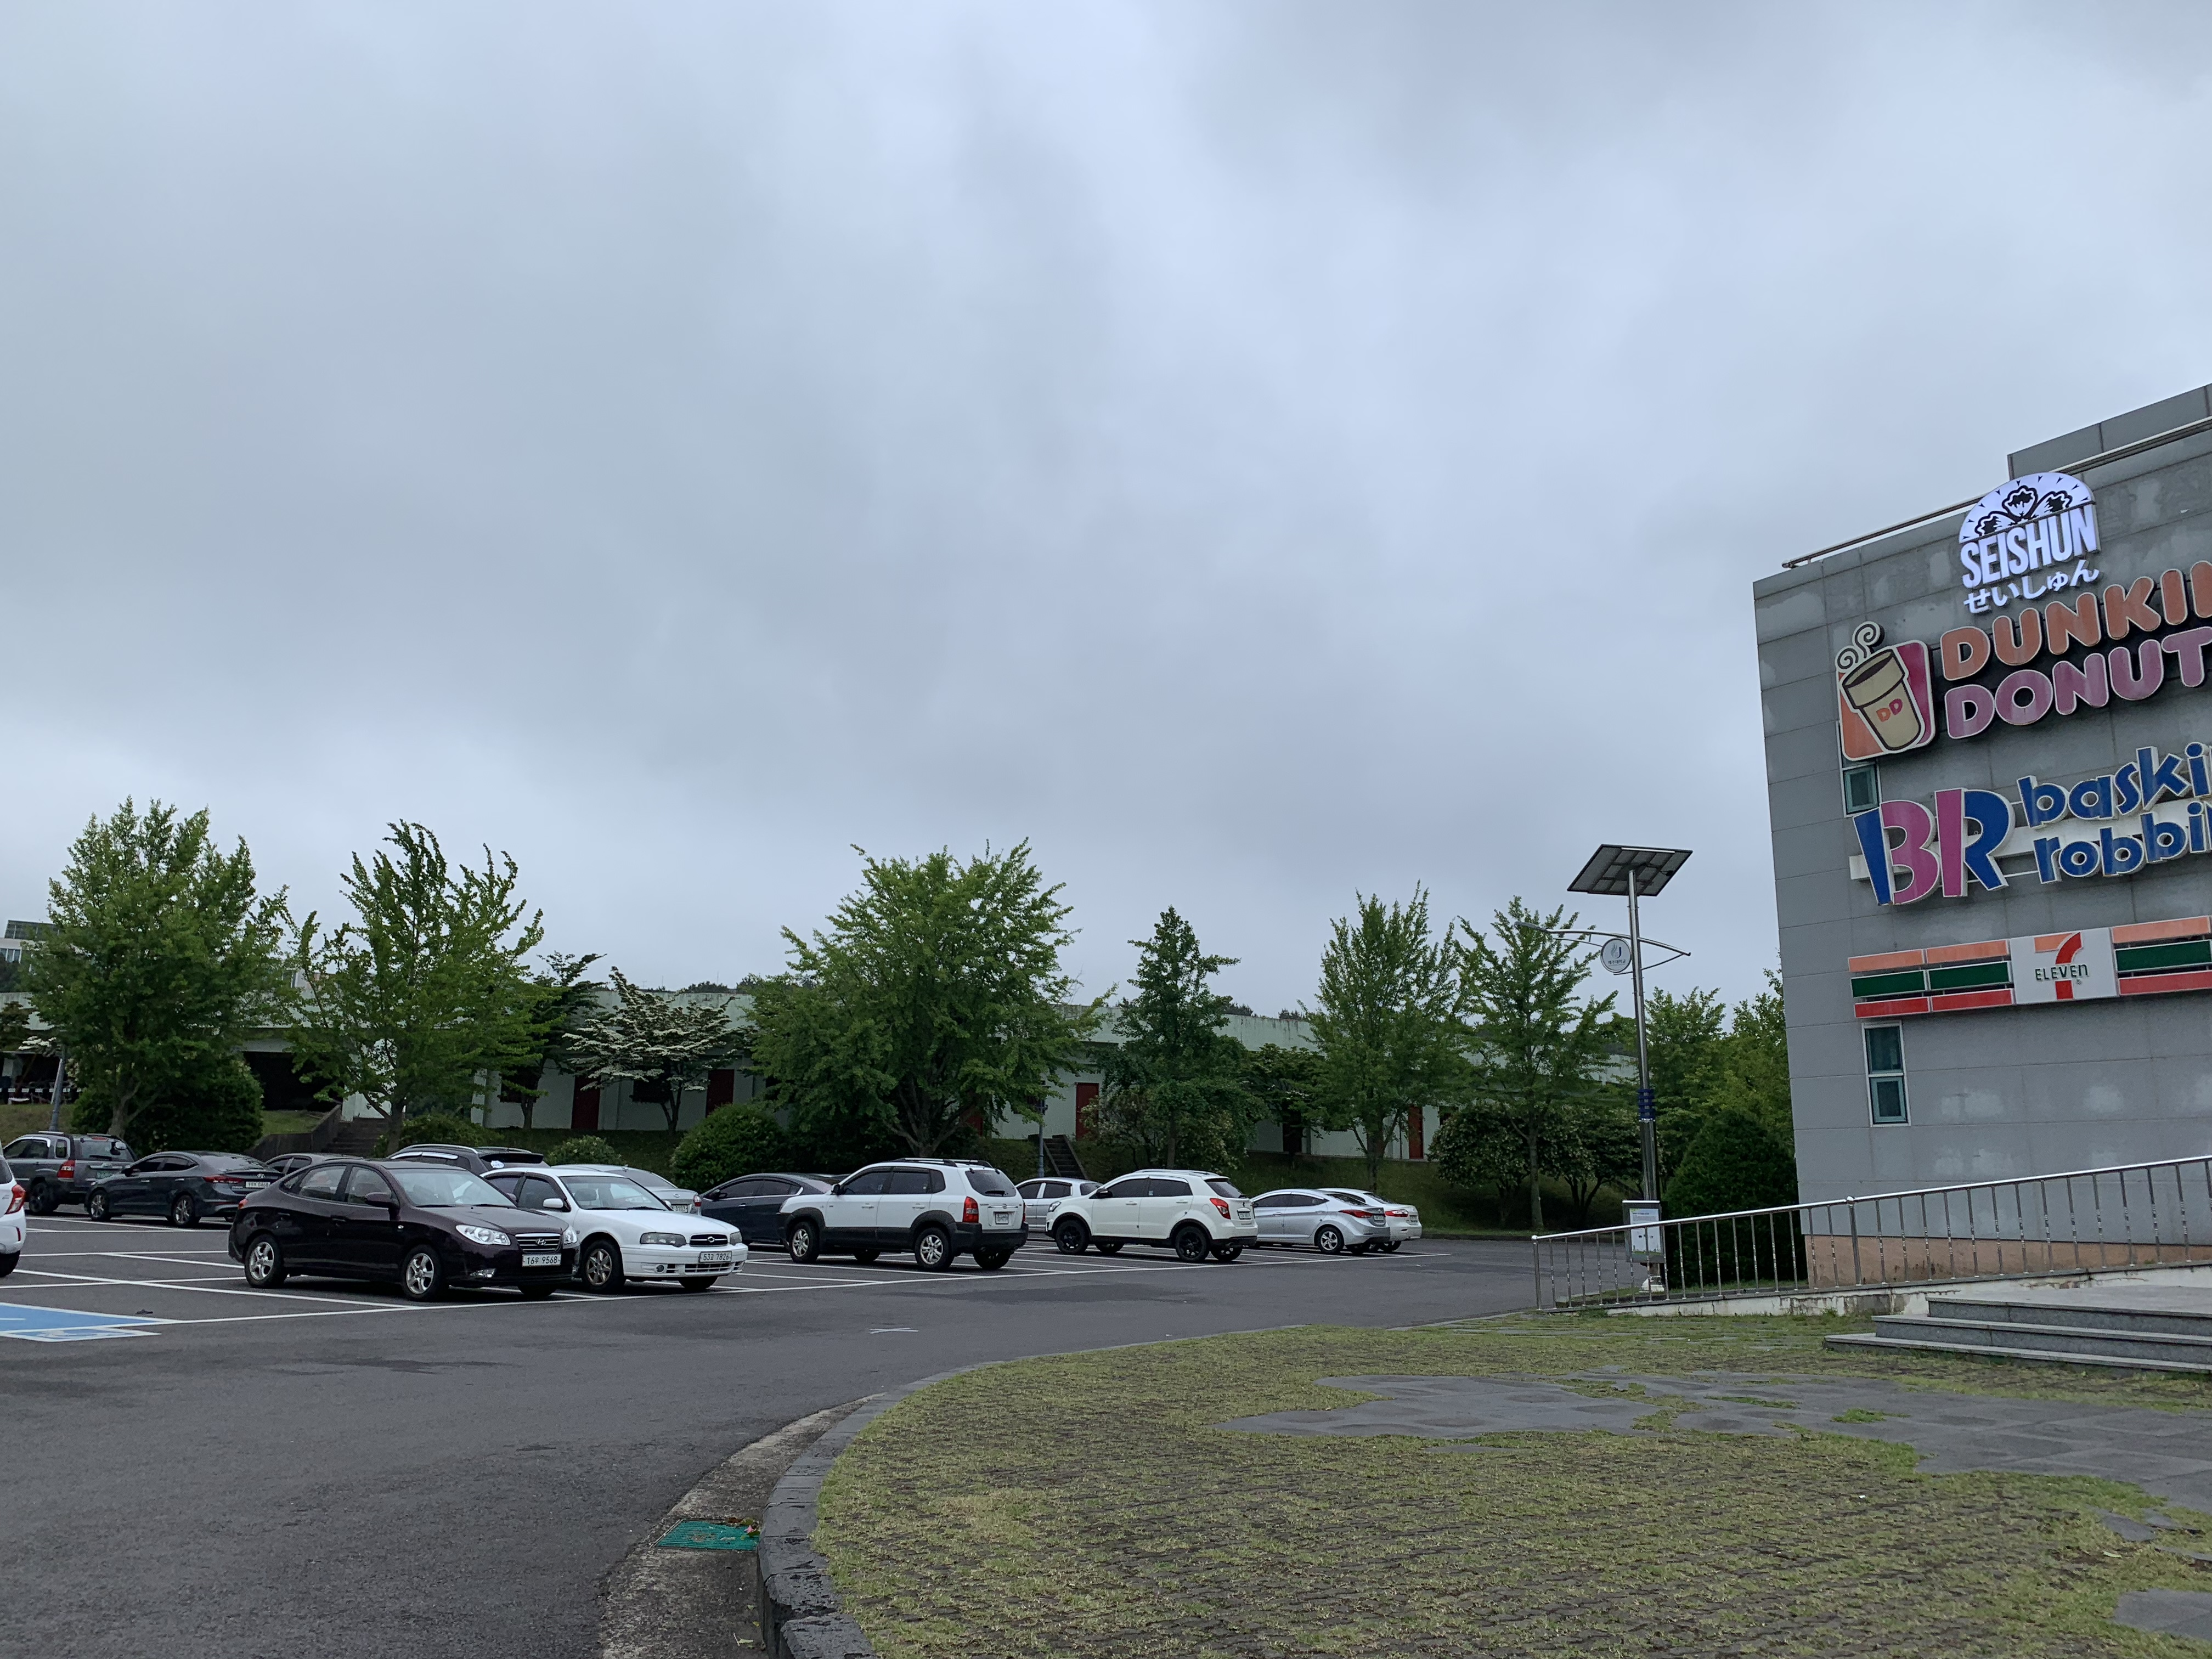Global House: (1703, 347, 2200, 1331)
